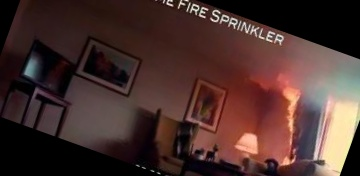fire: (247, 59, 332, 168)
